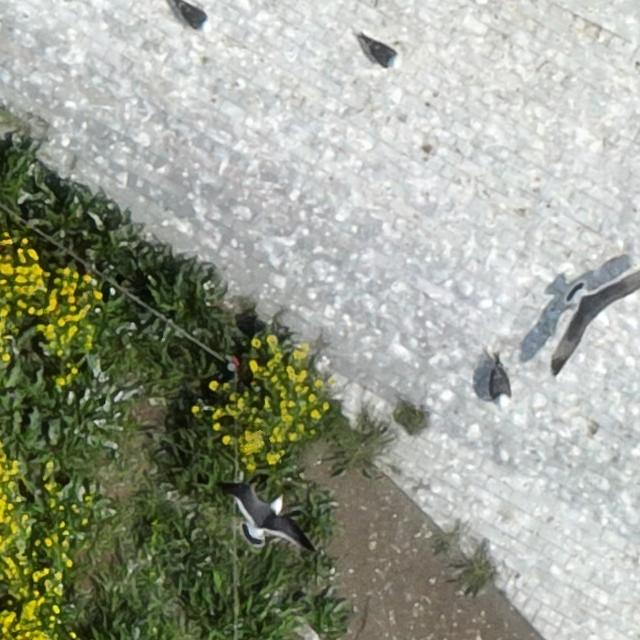F: (556, 265, 635, 367), (237, 483, 296, 546)
umineko: (366, 42, 398, 66), (180, 4, 208, 31), (493, 368, 511, 404)
